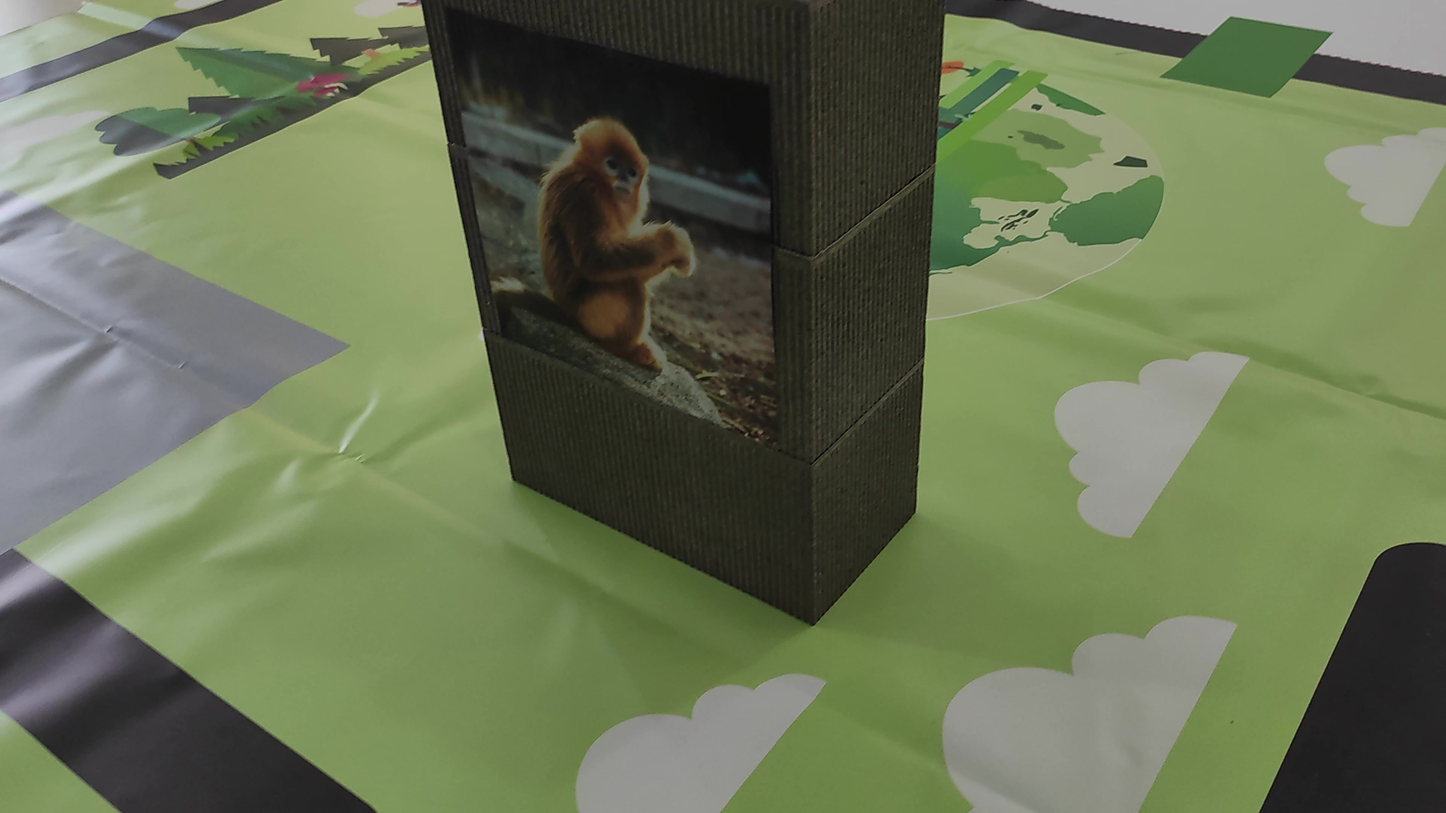monkey: (487, 83, 755, 381)
